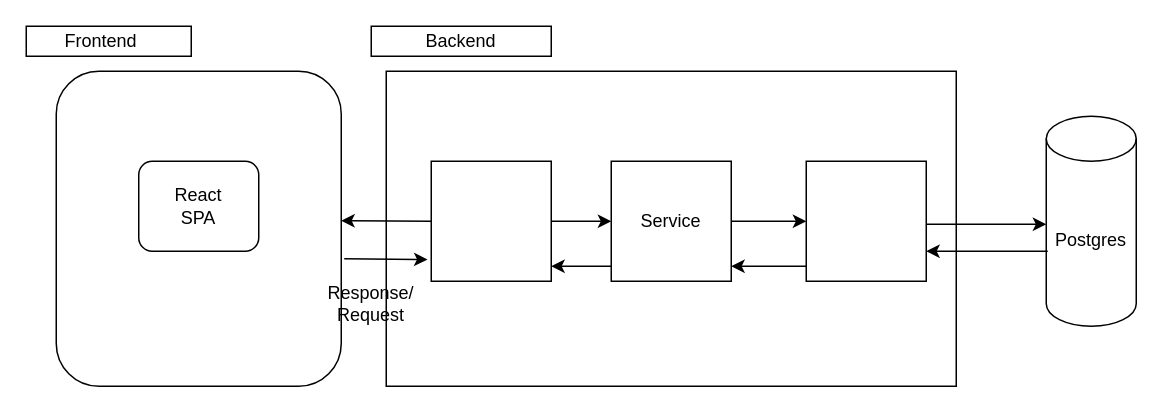
Some shapes in this 1163 by 413 pixel diagram are drawn without their labels. The shapes that lost their labels are listed below. From the top down, each one's centre as x and y in pixels, then its label:
At point 490,220: "REST Controller".
At point 865,220: "DAO".
